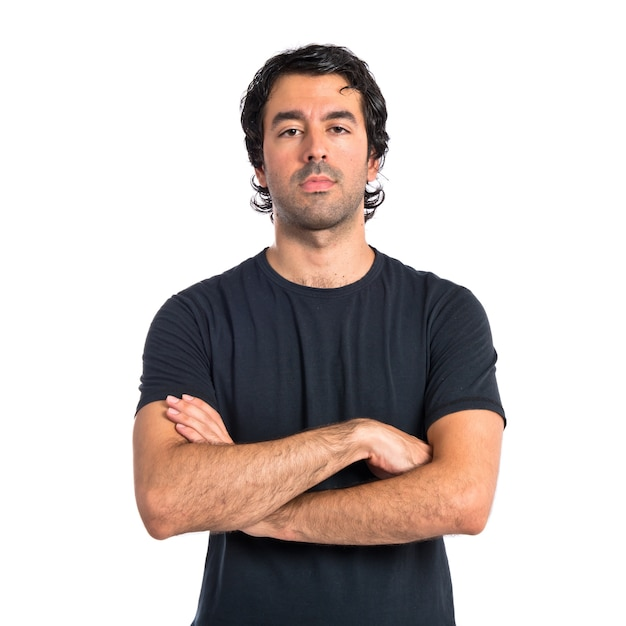young: (241, 37, 408, 244)
